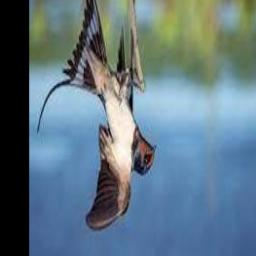Swallow: (37, 0, 155, 230)
